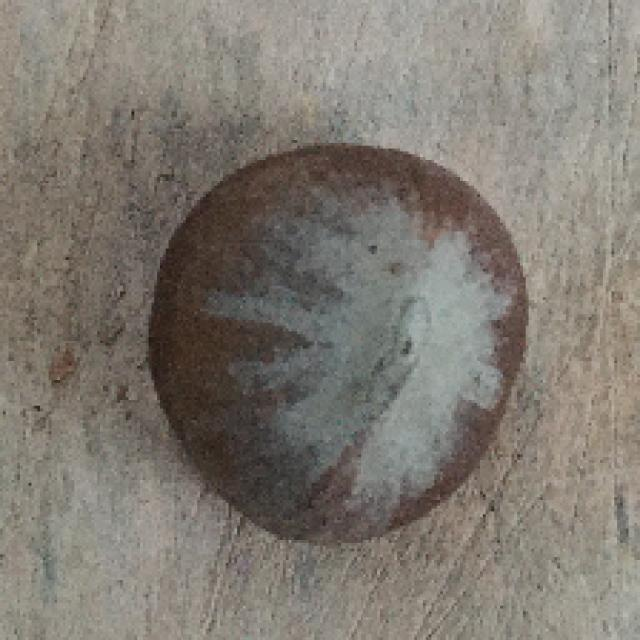damagedHazelnut: (150, 139, 535, 548)
